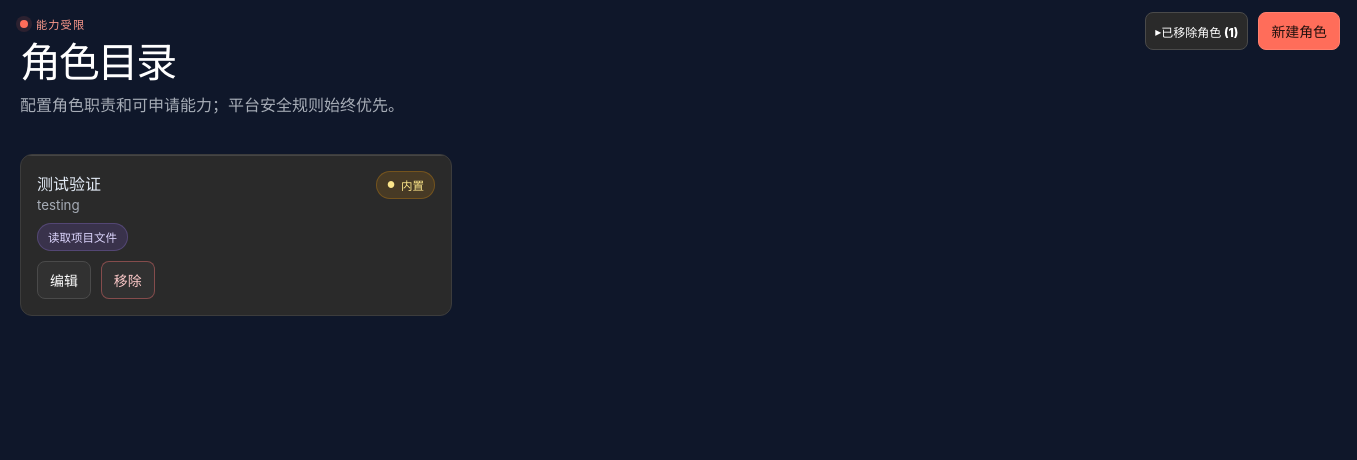
Test case: keeps removed roles hidden until the compact toggle is used
This screenshot has width=1357, height=460.
Expected: the text "测试验证" is shown, [37,174,101,194]
Expected: the link "编辑" is shown, [37,261,91,299]
Click the button "▸ 已移除角色 (1)".
click(1197, 31)  # box [1145,12,1248,50]
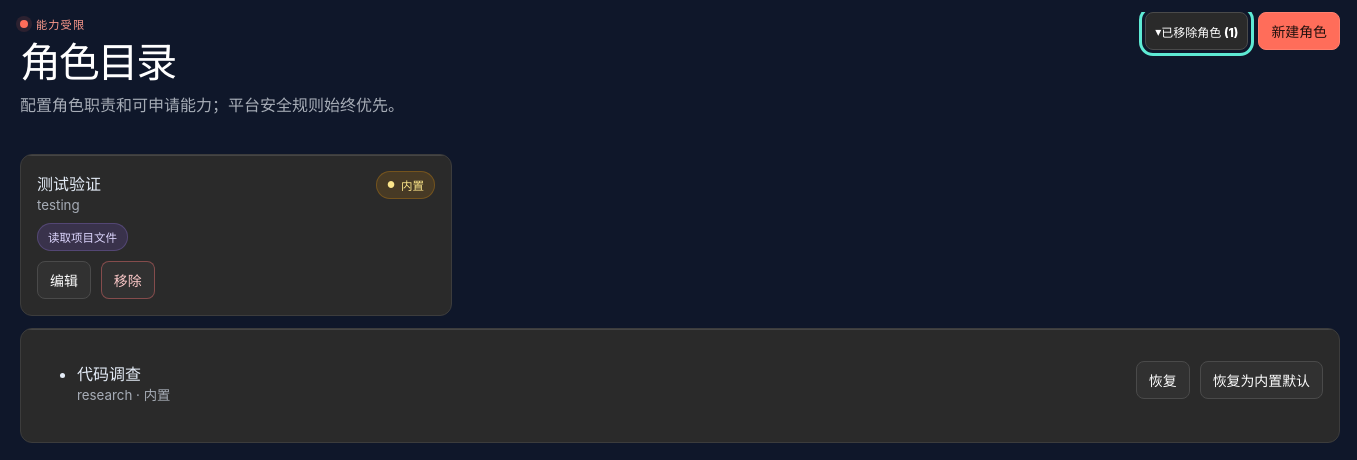
Expected: the element named "已移除角色" is shown, [20,328,1340,443]
Expected: the text "代码调查" is shown, [77,364,141,384]
Click the button "▾ 已移除角色 (1)".
click(1197, 31)  # box [1145,12,1248,50]
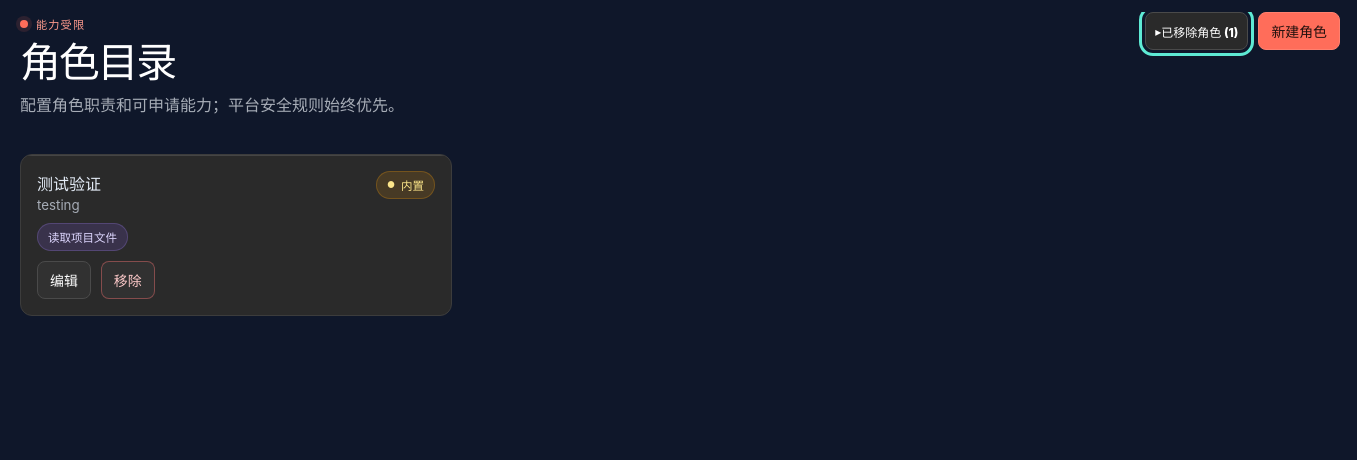
Expected: the text "代码调查" is gone
